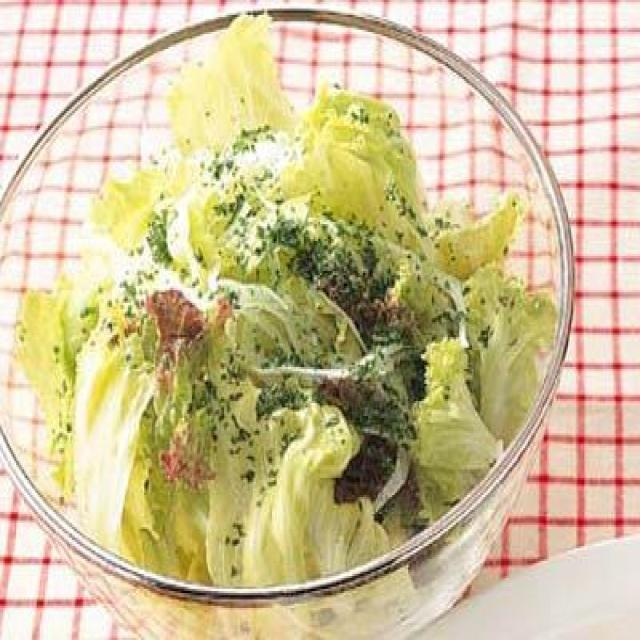Green Salad: (51, 104, 544, 567)
